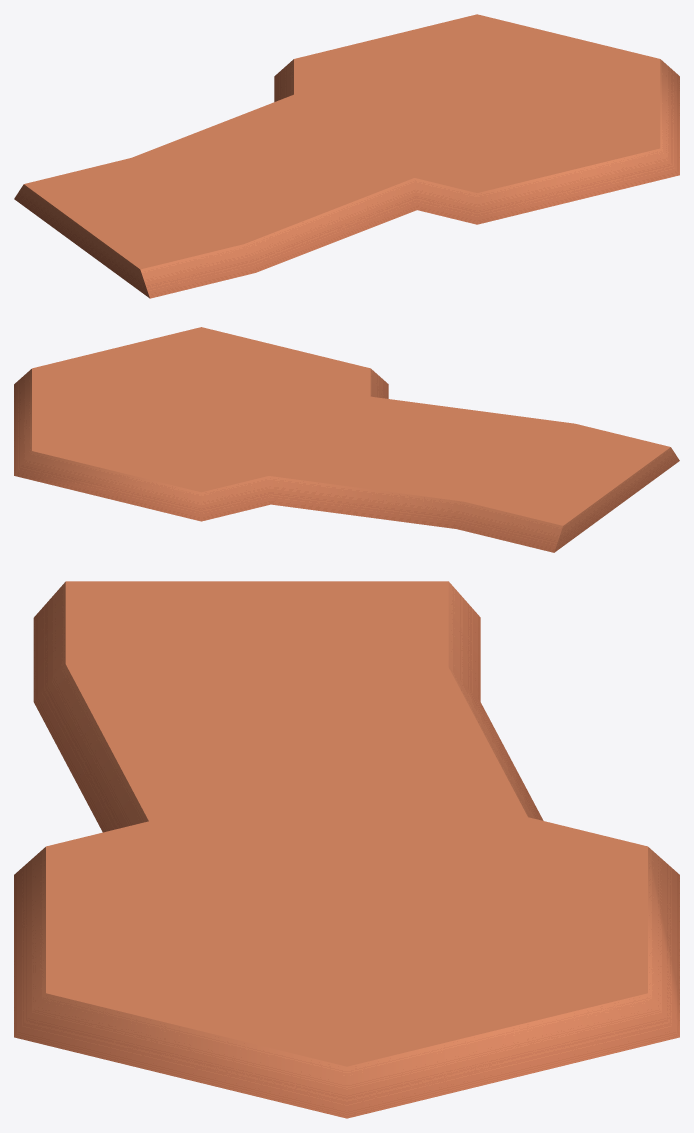
The model's file is path-start.glb.
3 views of the same model, one above another, from view 1: azimuth 30°, elevation 25°; view 2: azimuth 150°, elevation 25°; view 3: azimuth 270°, elevation 25° (orthographic). The views are drawn at different scales.
Visible parts, largest first — view 1: path-start; view 2: path-start; view 3: path-start.
Boxes of the visible parts, x1=… form: path-start: x1=14, y1=14, x2=679, y2=298; path-start: x1=14, y1=327, x2=679, y2=552; path-start: x1=14, y1=581, x2=679, y2=1118.
Size of the model in its own units: 0.74 by 0.025 by 0.4157.
1 material, 1 textured.
